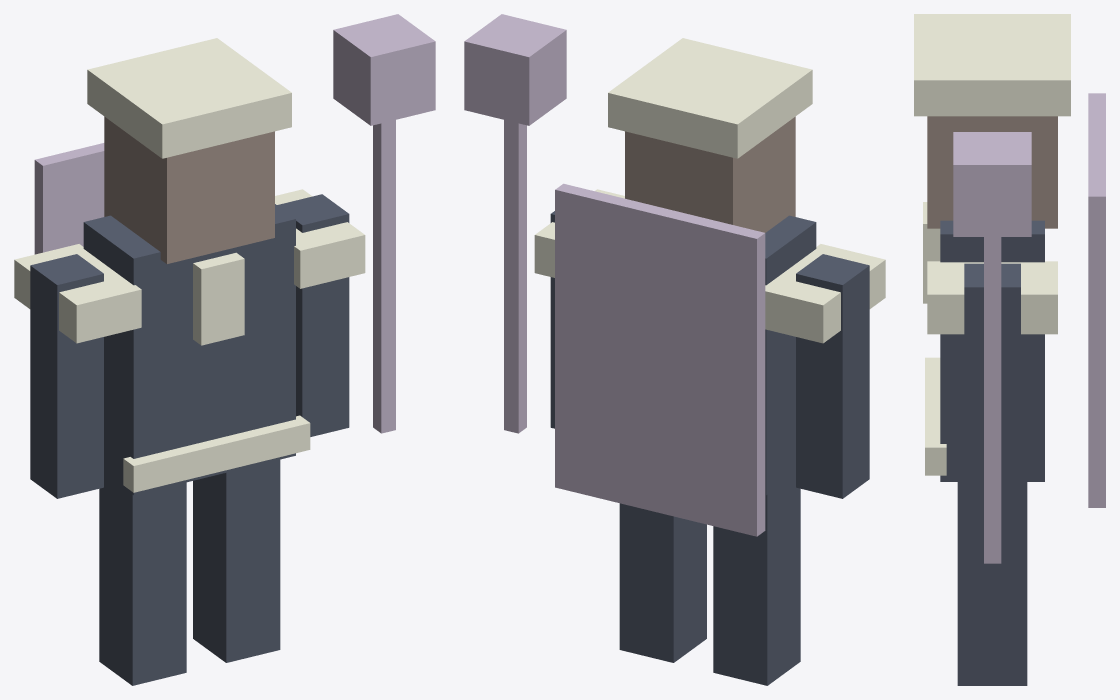
Rendered from 06_ren_cinderholt_mechanist_from_ter.glb.
The picture shows the model from 3 angles, left to right: view 1: azimuth 30°, elevation 25°; view 2: azimuth 150°, elevation 25°; view 3: azimuth 270°, elevation 25°; orthographic projection. The views are drawn at different scales.
Parts seen in each view (by area): view 1: Ren Cinderholt, Mechanist from Ter; view 2: Ren Cinderholt, Mechanist from Ter; view 3: Ren Cinderholt, Mechanist from Ter.
Boxes of the visible parts, box(x1,y1,x2,y2) form: Ren Cinderholt, Mechanist from Ter: box(14, 14, 435, 685); Ren Cinderholt, Mechanist from Ter: box(464, 14, 885, 685); Ren Cinderholt, Mechanist from Ter: box(914, 14, 1105, 685).
Bounding box in the file's own units: 1.13 × 1.67 × 0.4824.
